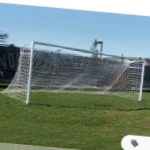goals: (1, 39, 146, 109)
